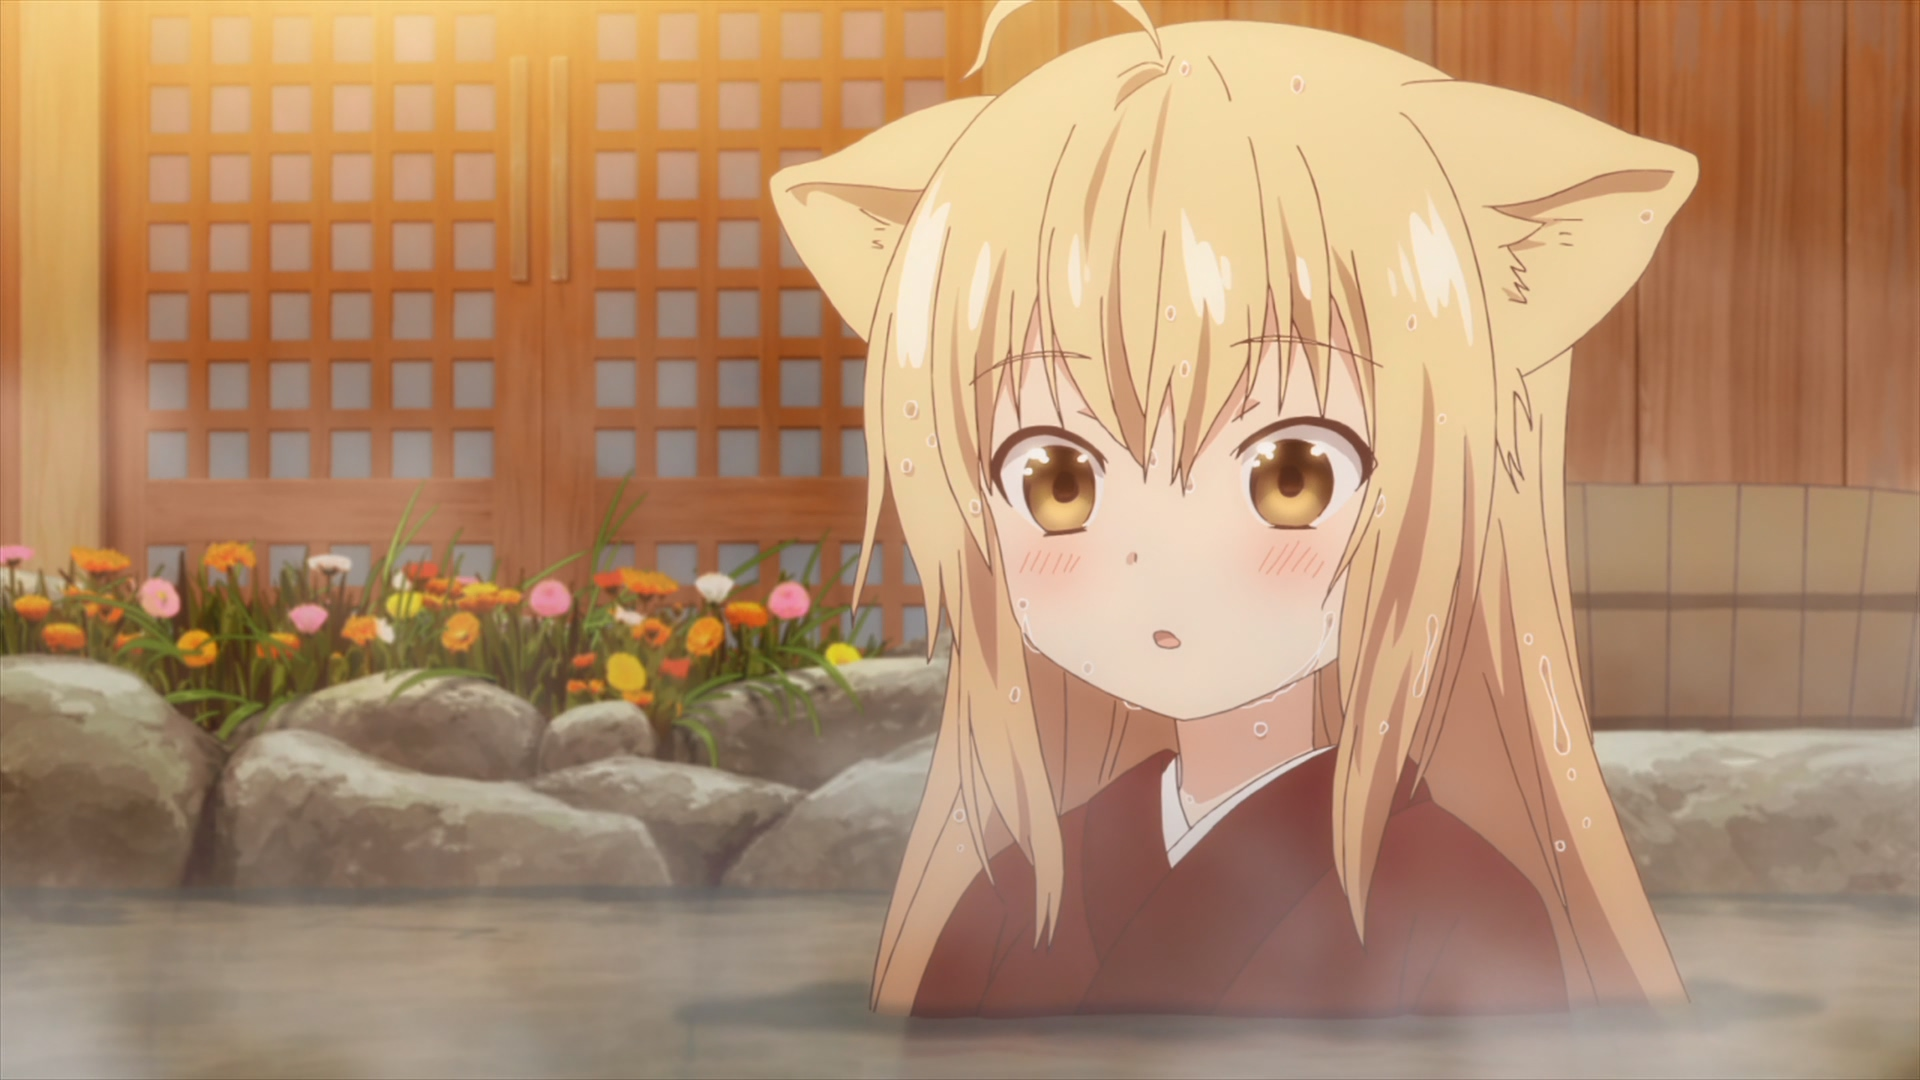柚: (765, 1, 1706, 1080)
